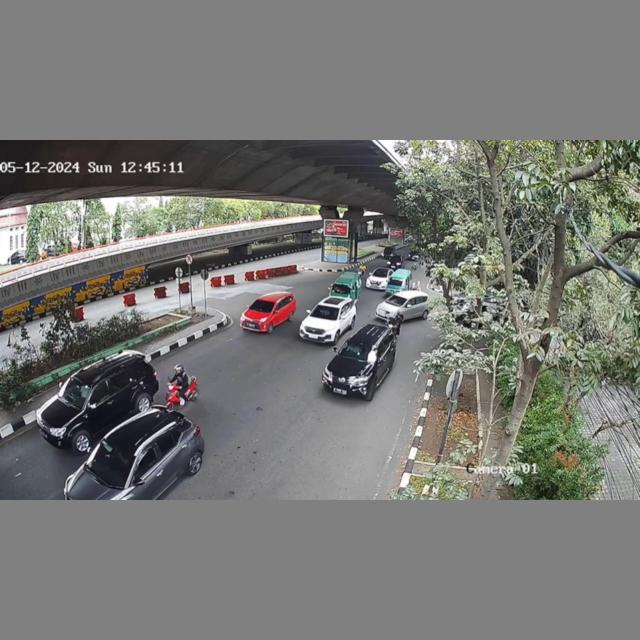windshield: (87, 440, 137, 484), (59, 375, 92, 409), (340, 340, 379, 362), (311, 303, 338, 322), (250, 297, 275, 313)
